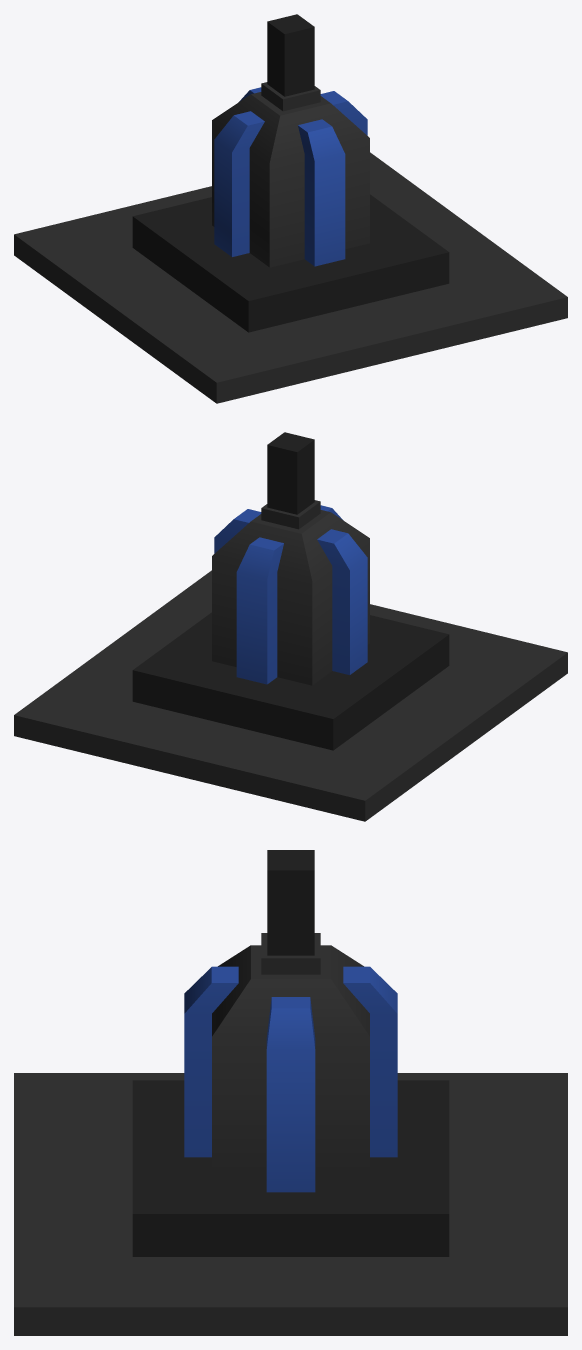
The model's file is LaserTowerBase.dae.
The picture shows the model from 3 angles, top to bottom: view 1: azimuth 30°, elevation 25°; view 2: azimuth 150°, elevation 25°; view 3: azimuth 270°, elevation 25°; orthographic projection. The views are drawn at different scales.
Visible parts, largest first — view 1: Ground, Box_5, Box, Box_2, Box_3, Box_4, Box_1; view 2: Ground, Box_5, Box, Box_2, Box_3, Box_4, Box_1; view 3: Ground, Box_5, Box, Box_2, Box_3, Box_4, Box_1.
Part boxes in pixels (x1,y1,x2,y2): Ground: (14, 152, 567, 403); Box_5: (132, 194, 449, 332); Box: (212, 92, 369, 267); Box_2: (238, 87, 345, 266); Box_3: (214, 91, 367, 256); Box_4: (267, 14, 314, 96); Box_1: (261, 82, 320, 111); Ground: (14, 570, 567, 821); Box_5: (132, 612, 449, 750); Box: (212, 510, 369, 685); Box_2: (236, 505, 343, 684); Box_3: (214, 509, 367, 674); Box_4: (267, 432, 314, 514); Box_1: (261, 500, 320, 529); Ground: (14, 1073, 567, 1335); Box_5: (132, 1080, 449, 1256); Box: (212, 945, 369, 1180); Box_2: (184, 966, 397, 1157); Box_3: (266, 997, 315, 1192); Box_4: (267, 850, 314, 955); Box_1: (261, 933, 320, 974).
Size of the model in its own units: 1.75 by 1.25 by 1.75.
